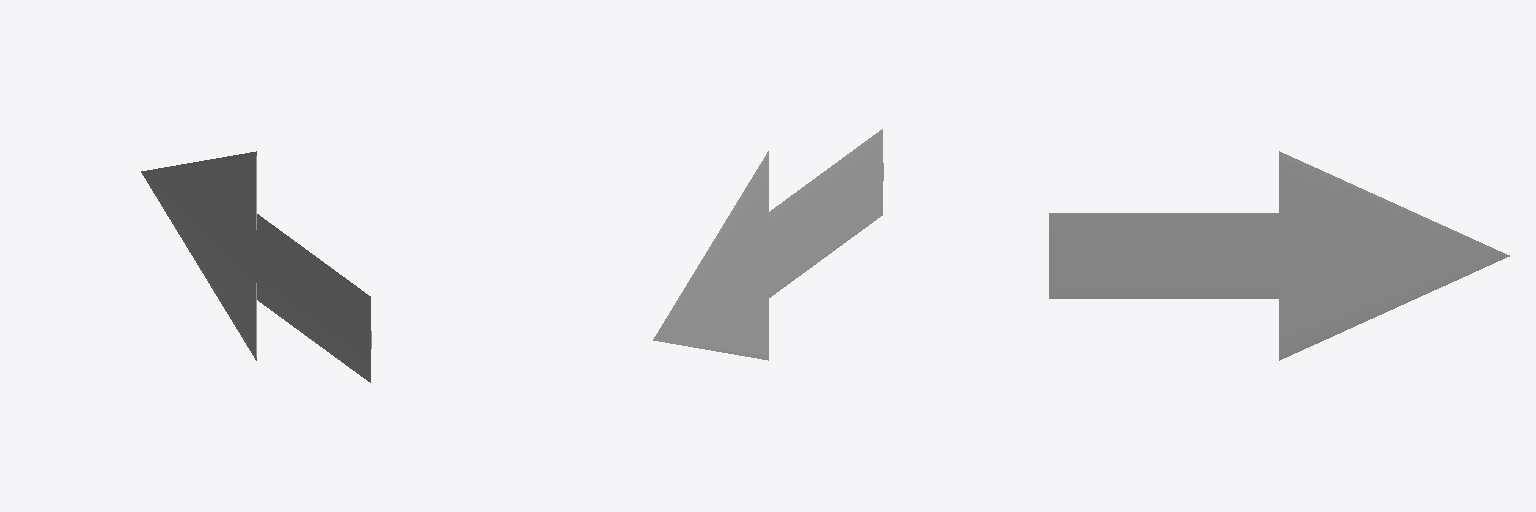
Rendered from Arrow.obj.
3 renders of one model, left to right at view 1: azimuth 30°, elevation 25°; view 2: azimuth 150°, elevation 25°; view 3: azimuth 270°, elevation 25°, orthographic.
Visible parts, largest first — view 1: pCone2; view 2: pCone2; view 3: pCone2.
Boxes of the visible parts, <box> form: pCone2: <box>141,151,371,382</box>; pCone2: <box>653,129,883,360</box>; pCone2: <box>1049,151,1509,360</box>.
Bounding box in the file's own units: 0.0117 × 2 × 3.98.